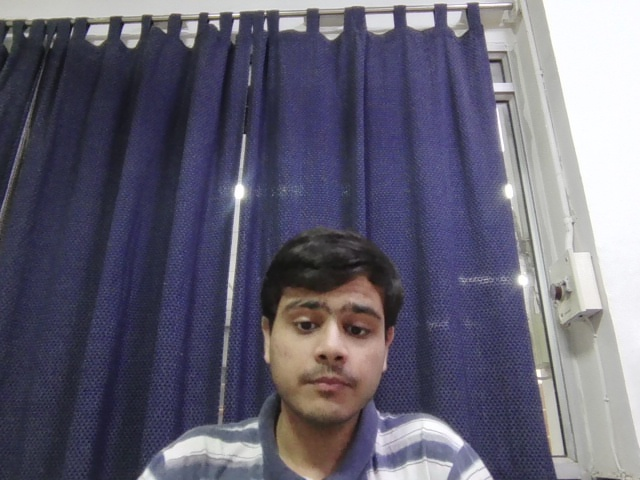face: (263, 232, 395, 421)
